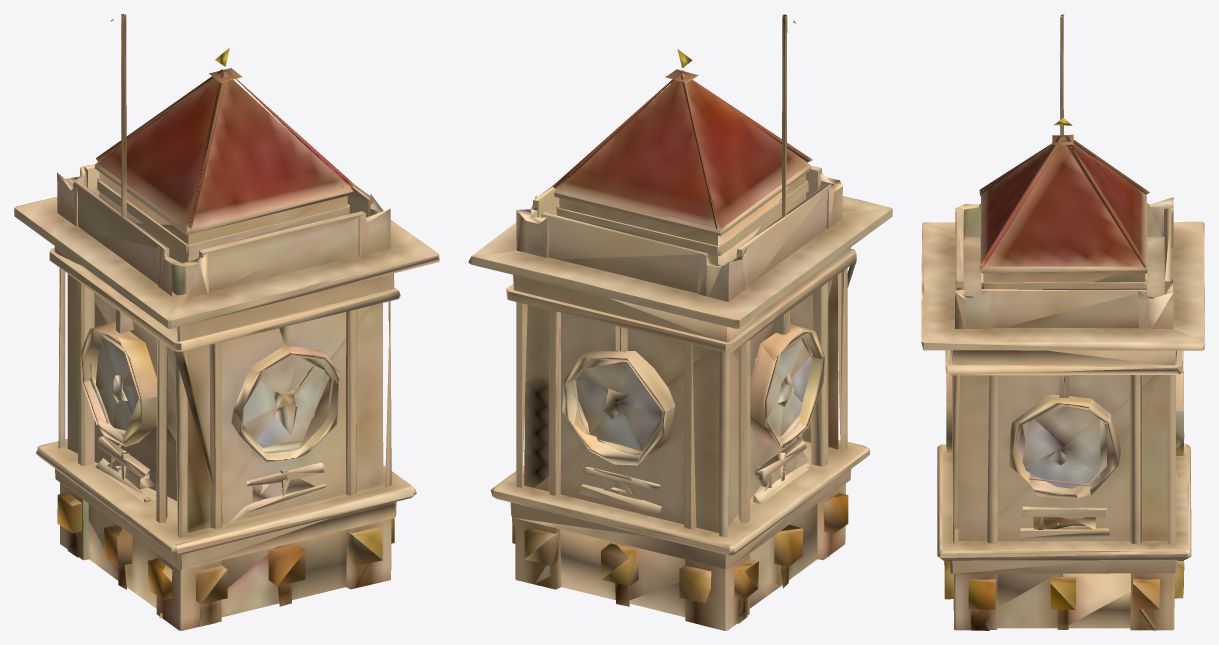
Rendered from clock-tower-top.lod2.glb.
3 renders of one model, left to right at view 1: azimuth 30°, elevation 25°; view 2: azimuth 150°, elevation 25°; view 3: azimuth 270°, elevation 25°, orthographic. The views are drawn at different scales.
Size of the model in its own units: 4.25 by 8.53 by 4.2.
1 material, 1 textured.
